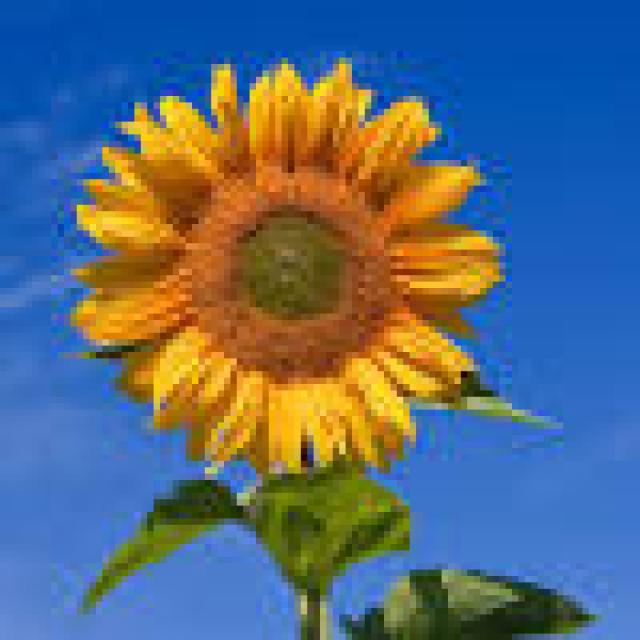sunflower: (62, 48, 522, 485)
